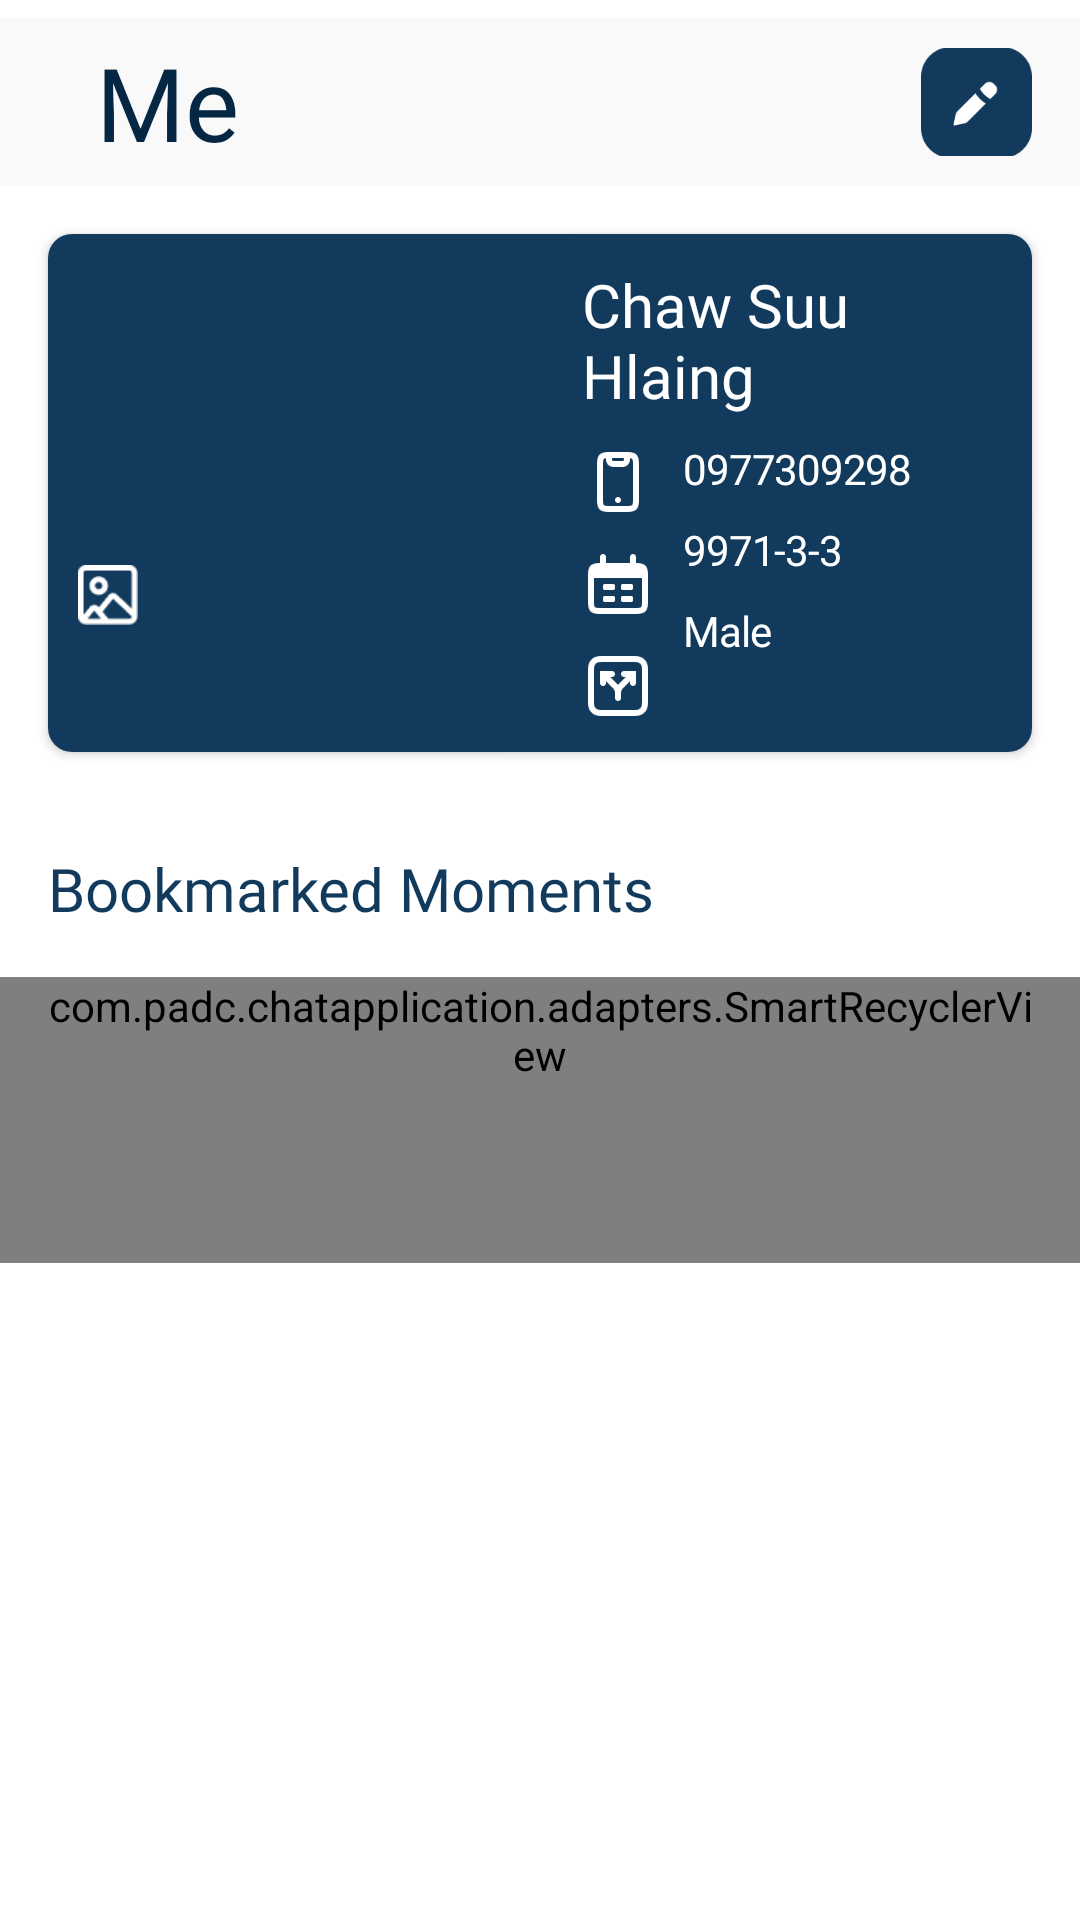

Named icons in this screenshot (1080 x 1920) and their bounding boxes, (x1, y1, x2, y2):
date: (588, 554, 648, 614)
phone: (597, 452, 639, 512)
profile edit: (921, 48, 1032, 156)
profile gallery: (78, 565, 138, 625)
